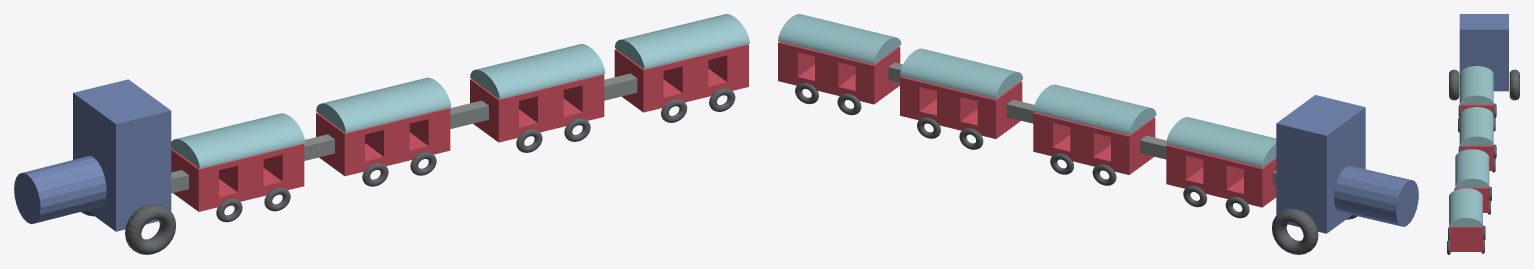
File: project150.glb
3 renders of one model, left to right at view 1: azimuth 30°, elevation 25°; view 2: azimuth 150°, elevation 25°; view 3: azimuth 270°, elevation 25°, orthographic. The views are drawn at different scales.
Parts seen in each view (by area): view 1: Mesh_Mesh_head_geo.001_lambert2SG.001; view 2: Mesh_Mesh_head_geo.001_lambert2SG.001; view 3: Mesh_Mesh_head_geo.001_lambert2SG.001.
Part boxes in pixels (left/top/right/bottom): Mesh_Mesh_head_geo.001_lambert2SG.001: left=14, top=14, right=749, bottom=254; Mesh_Mesh_head_geo.001_lambert2SG.001: left=778, top=14, right=1418, bottom=254; Mesh_Mesh_head_geo.001_lambert2SG.001: left=1447, top=14, right=1519, bottom=254.
Bounding box in the file's own units: 512 × 94 × 81.
